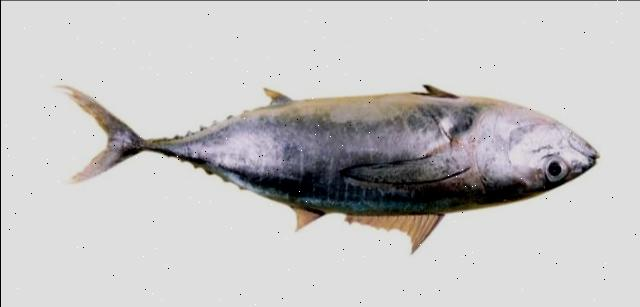Mulut: (562, 128, 612, 176)
Sirip Anal: (258, 82, 298, 116)
Sirip Dada: (335, 152, 463, 188)
Sirip Ekor: (41, 79, 143, 193)
Sirip Perut: (406, 77, 462, 108)
Sirip Punggung: (285, 198, 447, 266)
